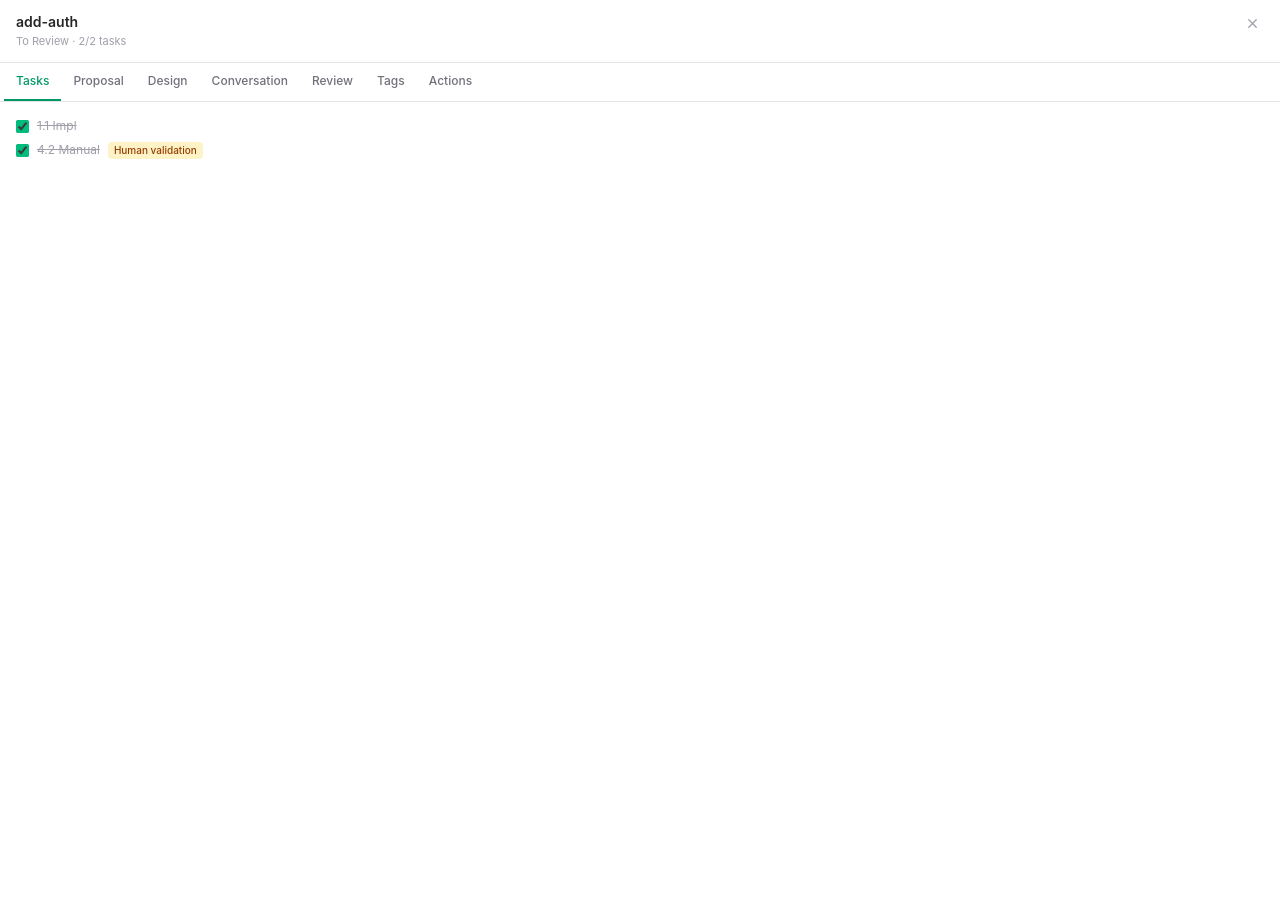
Test: DetailPanel guided conflict resolution › shows the files and the action in the dialog and in the Actions tab
Click the button "Actions".
click(450, 82)  # box [417, 63, 484, 101]
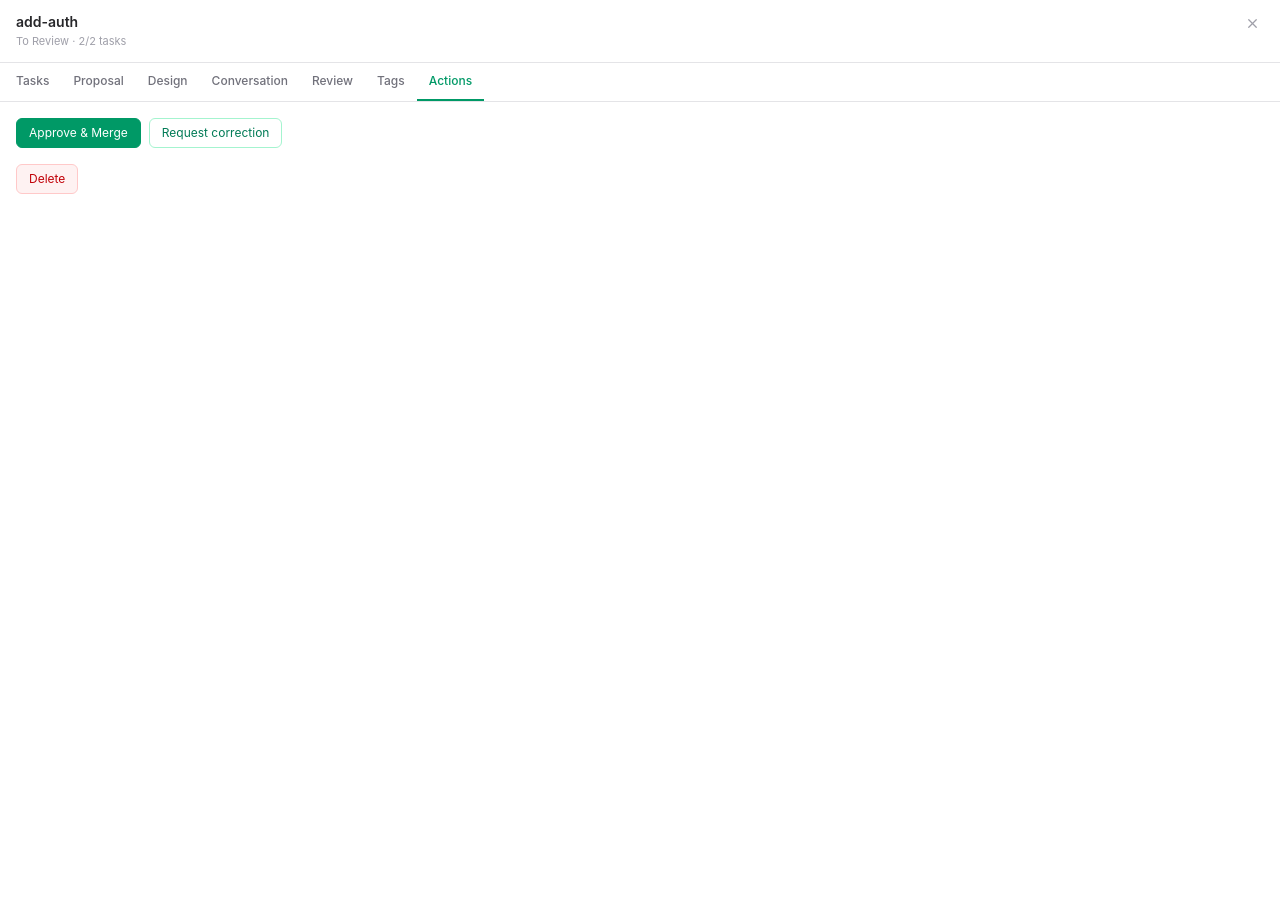
Click the button "Approve & Merge".
click(78, 133)  # box [16, 118, 141, 148]
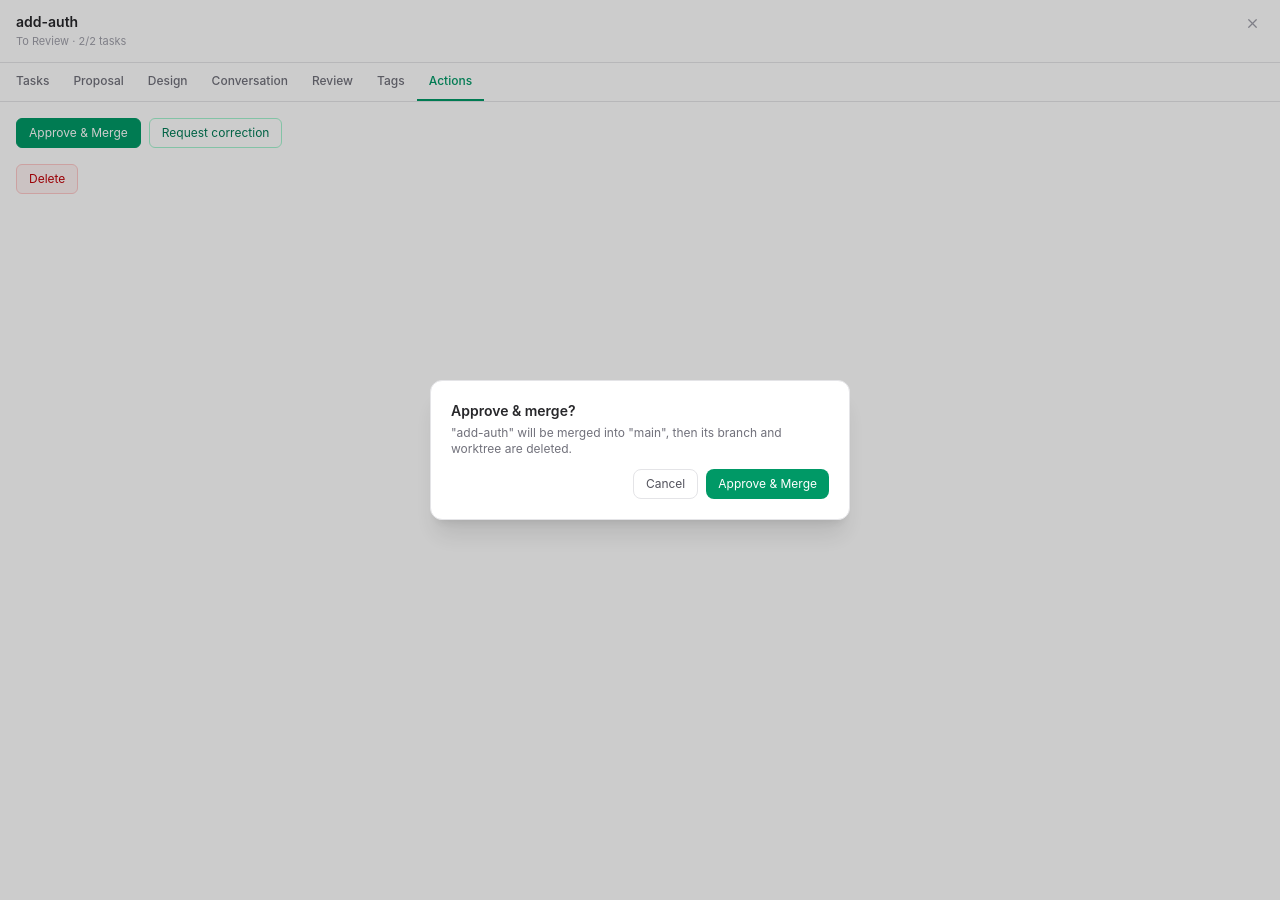
Click the button "Approve & Merge".
click(768, 484)  # box [706, 469, 829, 499]
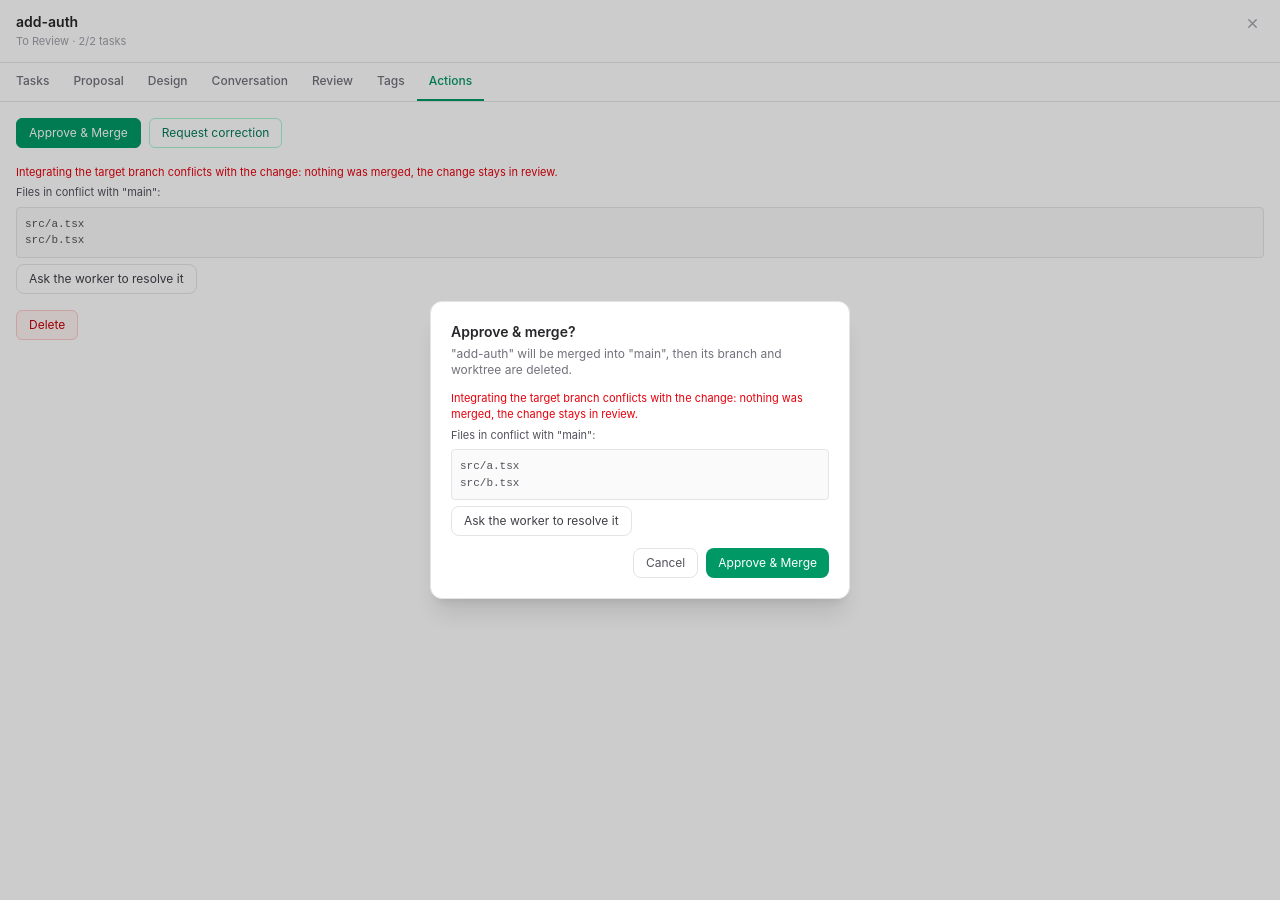
Now the number of list items "src/a.tsx" is 2, box [25, 218, 84, 230]; [460, 460, 519, 472]
Now the number of buttons "Ask the worker to resolve it" is 2, box [16, 264, 197, 294]; [451, 506, 632, 536]
